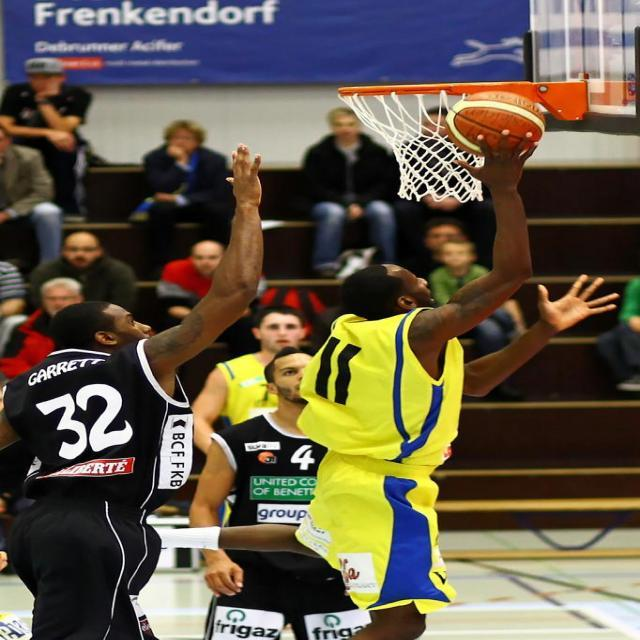rim: (451, 90, 544, 156)
